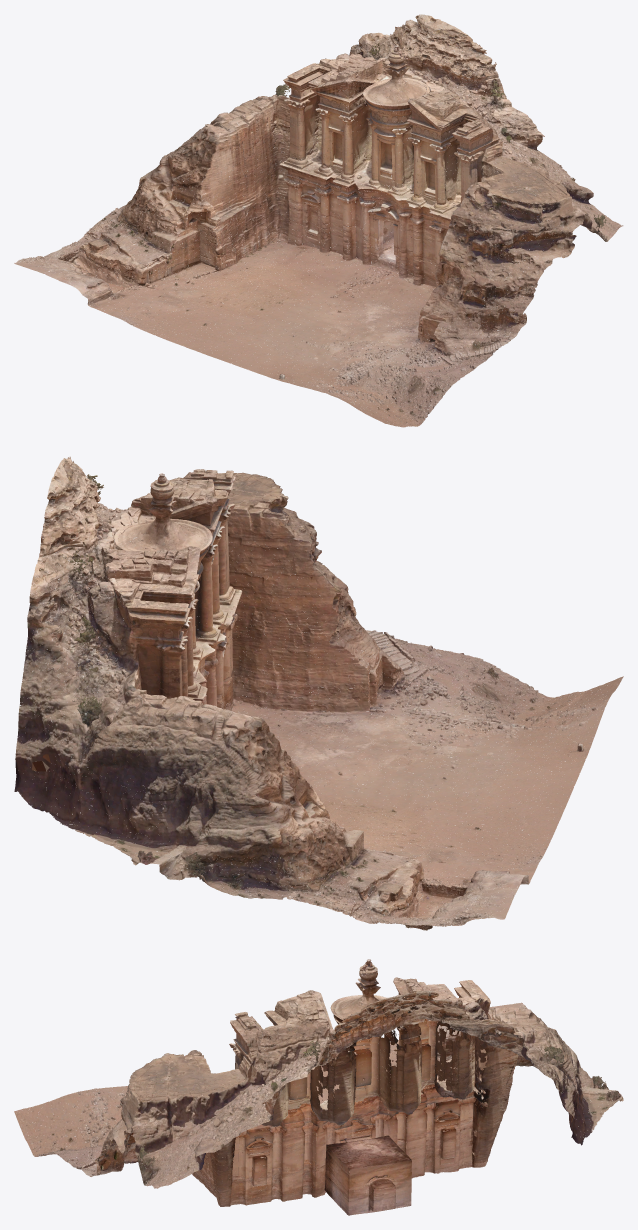
File: petra.glb
3 renders of one model, top to bottom at view 1: azimuth 30°, elevation 25°; view 2: azimuth 150°, elevation 25°; view 3: azimuth 270°, elevation 25°, orthographic. The views are drawn at different scales.
Visible parts, largest first — view 1: Object_5, Object_11, Object_15, Object_9, Object_2, Object_17, Object_7, Object_13; view 2: Object_5, Object_15, Object_11, Object_9, Object_2, Object_17, Object_7, Object_13; view 3: Object_5, Object_15, Object_11, Object_9, Object_2, Object_17, Object_7, Object_13.
Boxes of the visible parts, x1=… form: Object_5: x1=31, y1=14, x2=612, y2=426; Object_11: x1=15, y1=20, x2=620, y2=426; Object_15: x1=21, y1=24, x2=622, y2=427; Object_9: x1=25, y1=16, x2=616, y2=424; Object_2: x1=17, y1=15, x2=621, y2=426; Object_17: x1=21, y1=17, x2=615, y2=426; Object_7: x1=23, y1=14, x2=616, y2=425; Object_13: x1=14, y1=14, x2=617, y2=422; Object_5: x1=15, y1=458, x2=621, y2=928; Object_15: x1=15, y1=462, x2=615, y2=920; Object_11: x1=15, y1=465, x2=616, y2=929; Object_9: x1=21, y1=458, x2=623, y2=926; Object_2: x1=14, y1=462, x2=622, y2=930; Object_17: x1=15, y1=458, x2=620, y2=927; Object_7: x1=16, y1=457, x2=619, y2=929; Object_13: x1=15, y1=457, x2=619, y2=928; Object_5: x1=21, y1=962, x2=622, y2=1214; Object_15: x1=17, y1=959, x2=619, y2=1213; Object_11: x1=22, y1=968, x2=617, y2=1215; Object_9: x1=14, y1=964, x2=619, y2=1213; Object_2: x1=16, y1=961, x2=618, y2=1210; Object_17: x1=24, y1=961, x2=623, y2=1213; Object_7: x1=15, y1=961, x2=623, y2=1212; Object_13: x1=31, y1=961, x2=619, y2=1214.
Bounding box in the file's own units: 102 × 52.44 × 109.
Materials: 8 (8 with a texture image).
